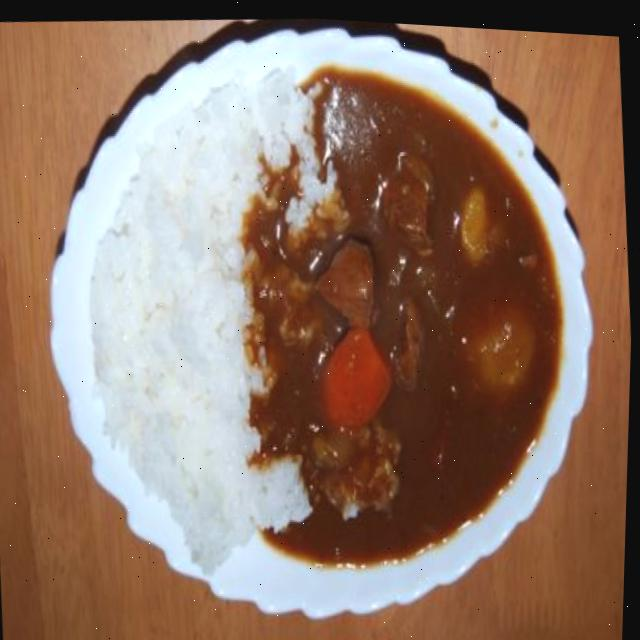牛肉菜式: (22, 2, 599, 614)
